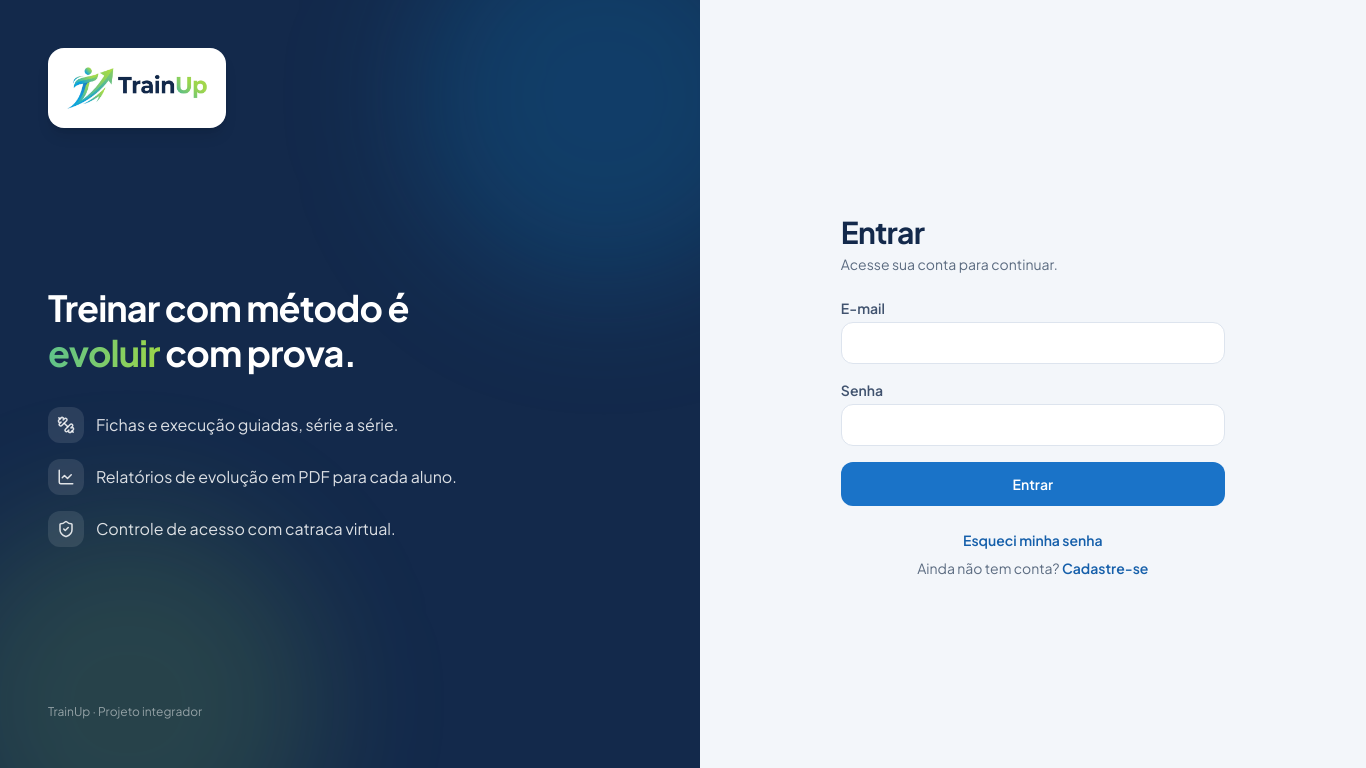
Test: Login › voltar limpa a mensagem de erro
Type "a@b.com" into the field labelled "E-mail" at point(1033, 343), box [841,322,1225,364]
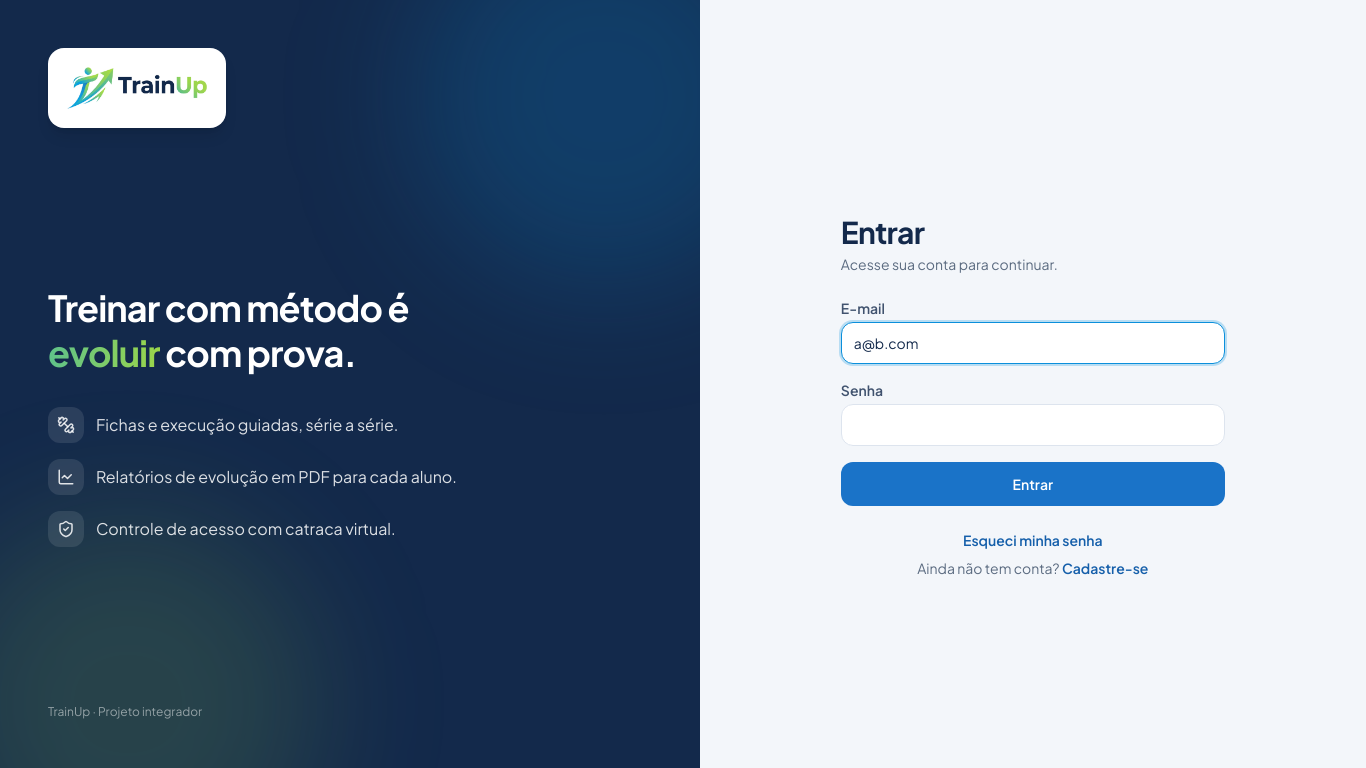
Type "x" into the password field labelled "Senha" at point(1033, 425), box [841,404,1225,446]
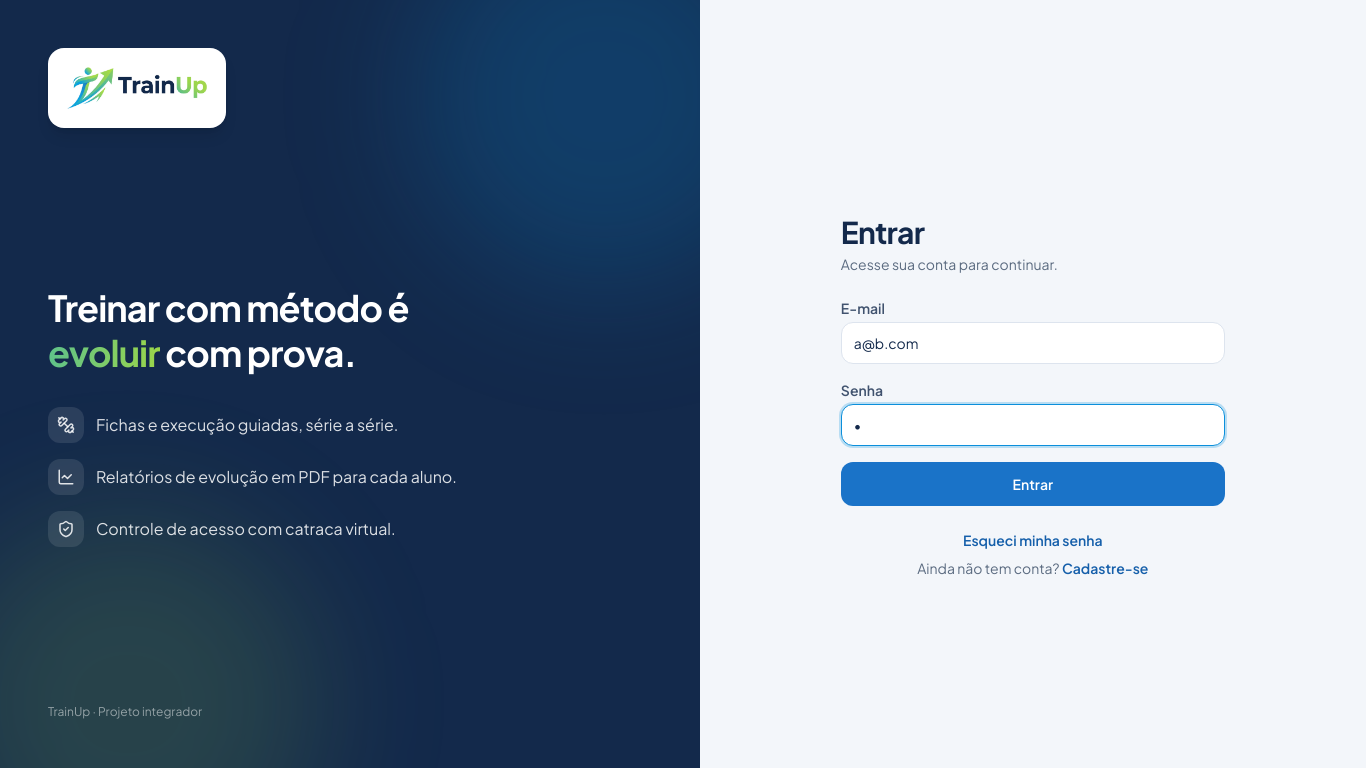
Click the button "Entrar" at point(1033, 484), box [841,462,1225,506]
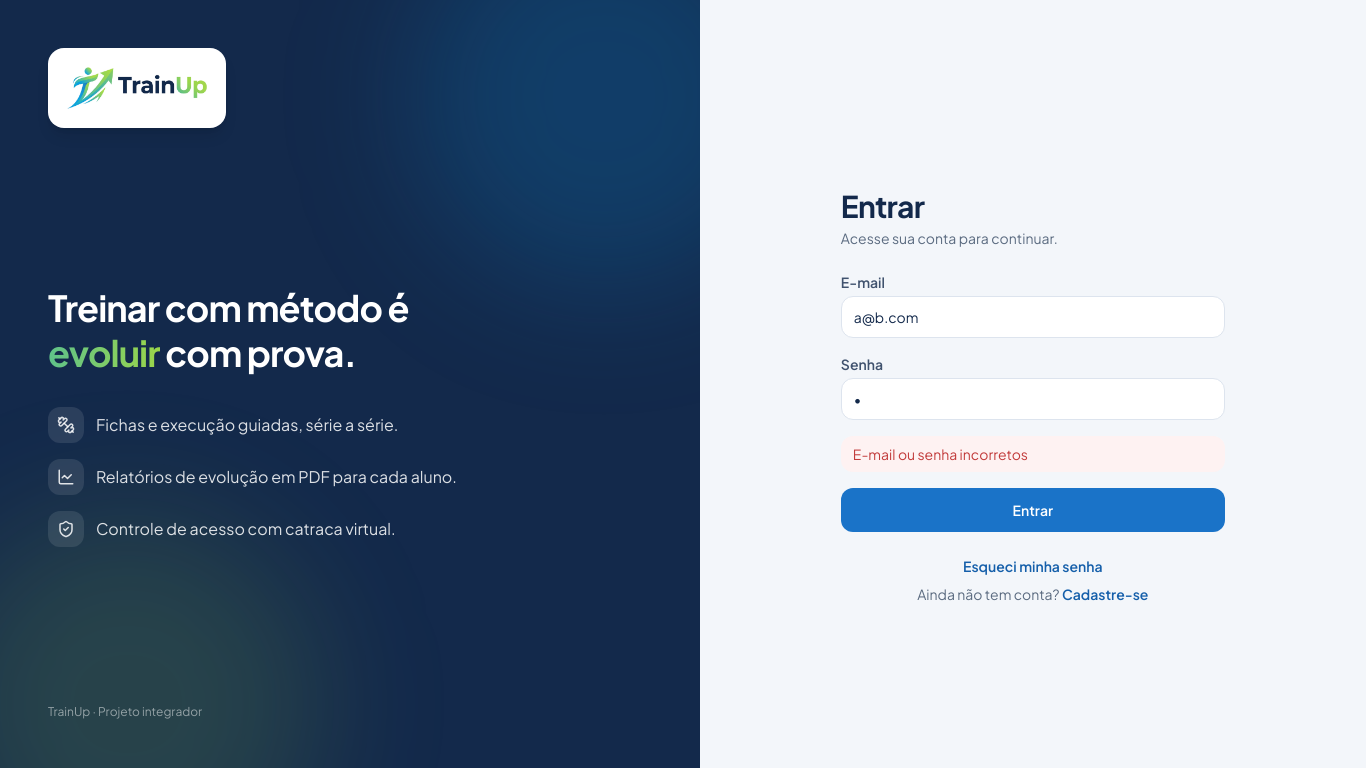
Check: the text "E-mail ou senha incorretos" is shown, box [841,436,1225,472]
Click the button "Esqueci minha senha" at point(1033, 566), box [963,556,1103,576]
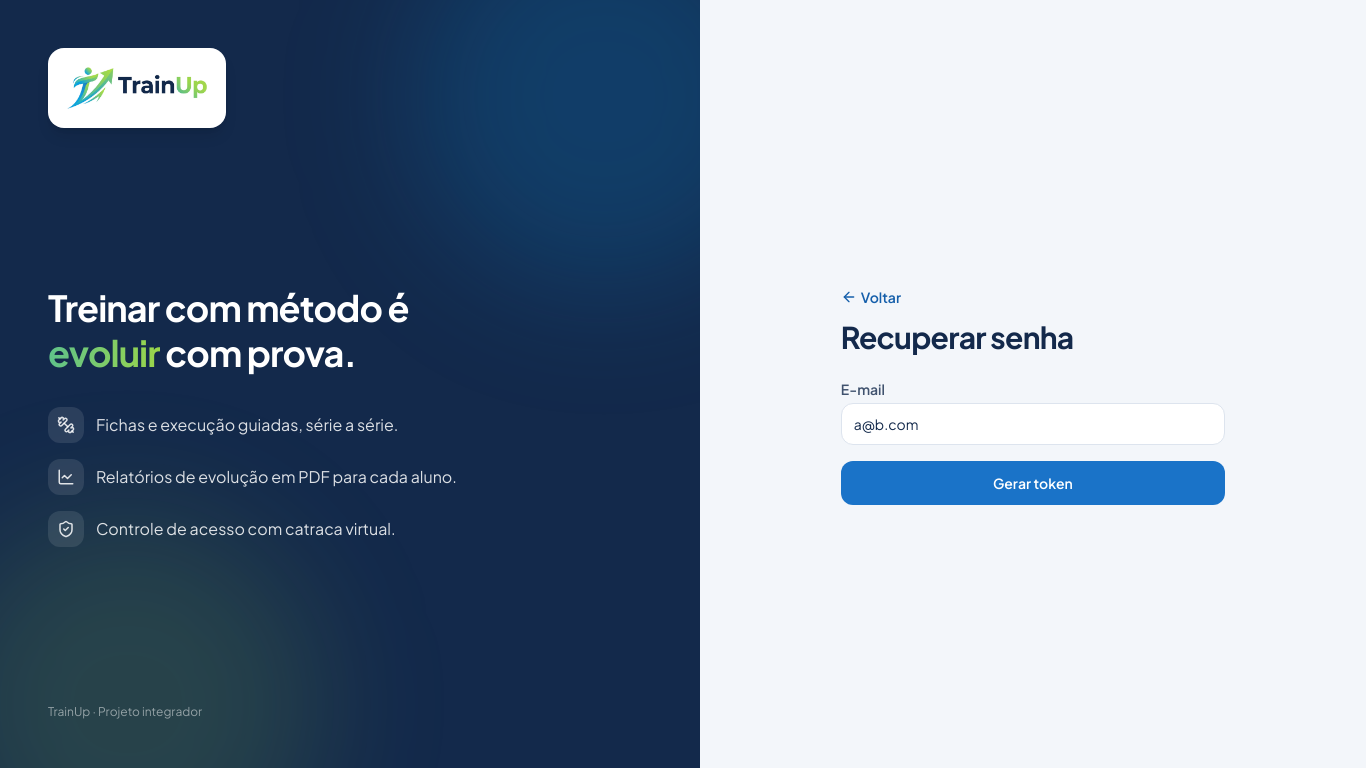
Check: the text "E-mail ou senha incorretos" is gone
